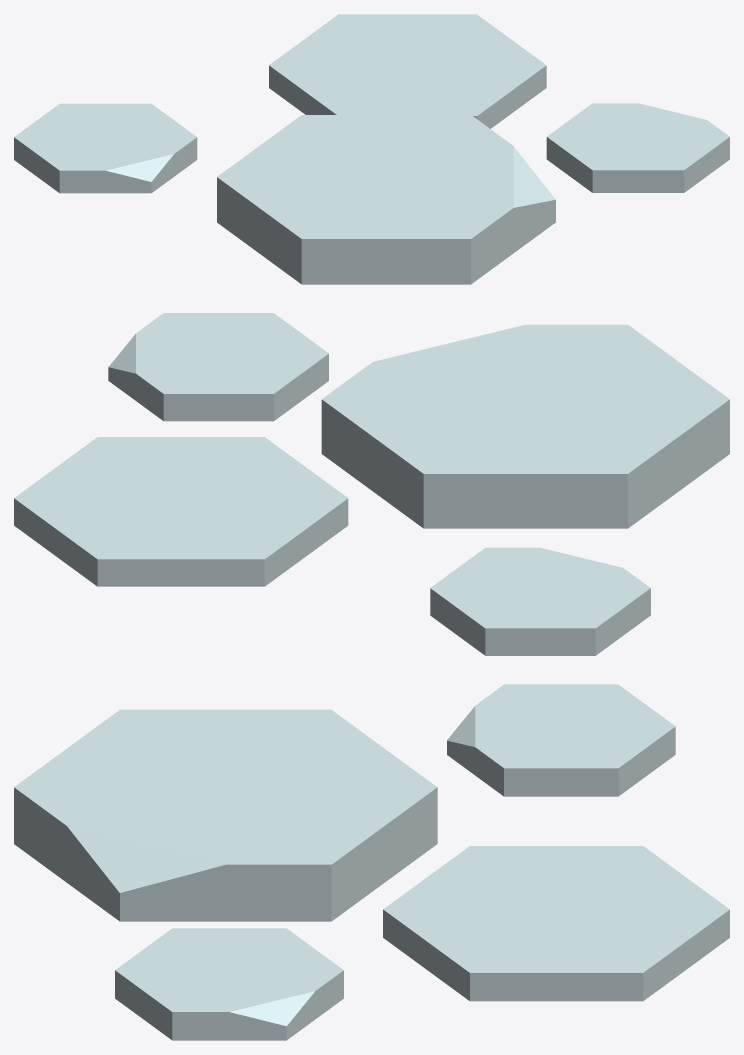
The model's file is path_stoneEnd.gltf.
3 views of the same model, one above another, from view 1: azimuth 30°, elevation 25°; view 2: azimuth 150°, elevation 25°; view 3: azimuth 270°, elevation 25° (orthographic). The views are drawn at different scales.
Visible parts, largest first — view 1: path_stoneEnd; view 2: path_stoneEnd; view 3: path_stoneEnd.
Boxes of the visible parts, x1,y1,x2,y2 form: path_stoneEnd: (14,14,729,284); path_stoneEnd: (14,313,729,655); path_stoneEnd: (14,684,729,1040).
Bounding box in the file's own units: 0.6182 × 0.05 × 0.571.
